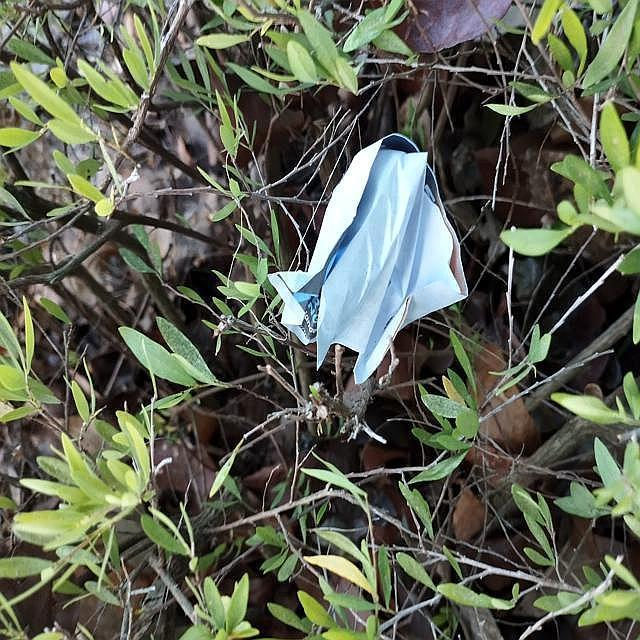Biodegradable: (279, 133, 470, 376)
